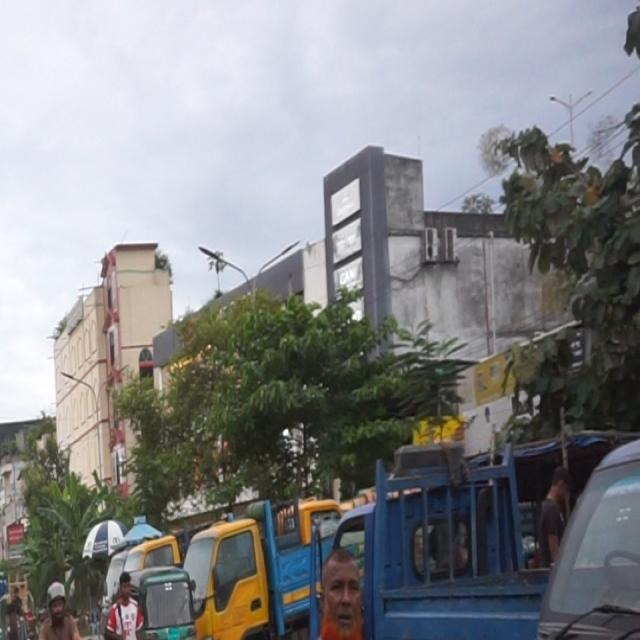car: (518, 418, 640, 639)
motorbike: (0, 580, 25, 640), (36, 614, 93, 640)
van: (163, 522, 376, 640)
